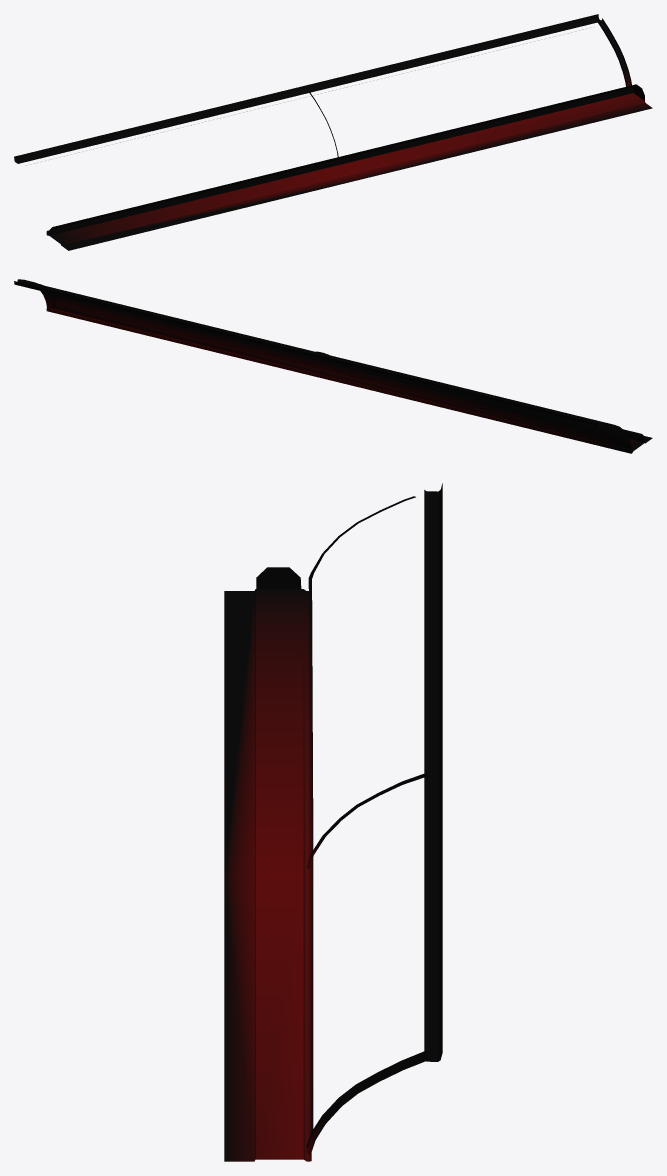
The model's file is SM_int_wall_curvedmarquee_300_01.fbx.
3 renders of one model, top to bottom at view 1: azimuth 30°, elevation 25°; view 2: azimuth 150°, elevation 25°; view 3: azimuth 270°, elevation 25°, orthographic. The views are drawn at different scales.
Visible parts, largest first — view 1: SM_int_wall_curvedmarquee_300_01_LOD0; view 2: SM_int_wall_curvedmarquee_300_01_LOD0; view 3: SM_int_wall_curvedmarquee_300_01_LOD0.
Part boxes in pixels (bbox=[...]): SM_int_wall_curvedmarquee_300_01_LOD0: bbox=[14, 14, 652, 250]; SM_int_wall_curvedmarquee_300_01_LOD0: bbox=[14, 279, 652, 453]; SM_int_wall_curvedmarquee_300_01_LOD0: bbox=[224, 483, 442, 1161].
Size of the model in its own units: 300 by 26.64 by 48.5.
